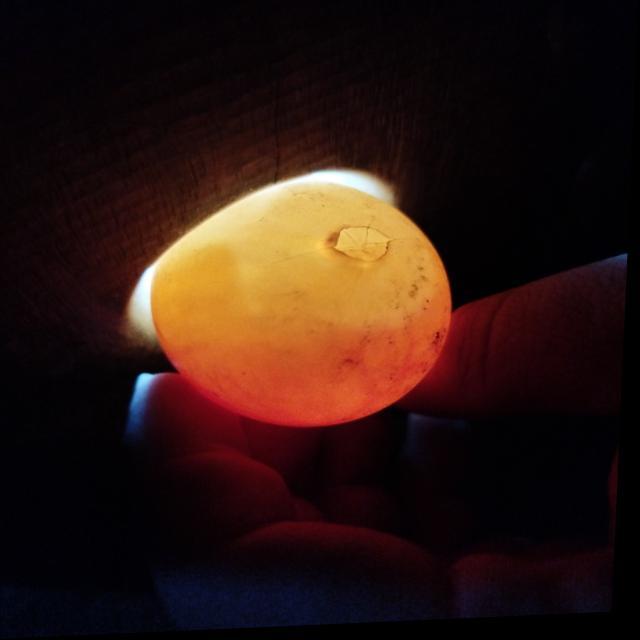Gema Quebrada: (162, 284, 456, 431)
Rachadura: (337, 230, 393, 264)
